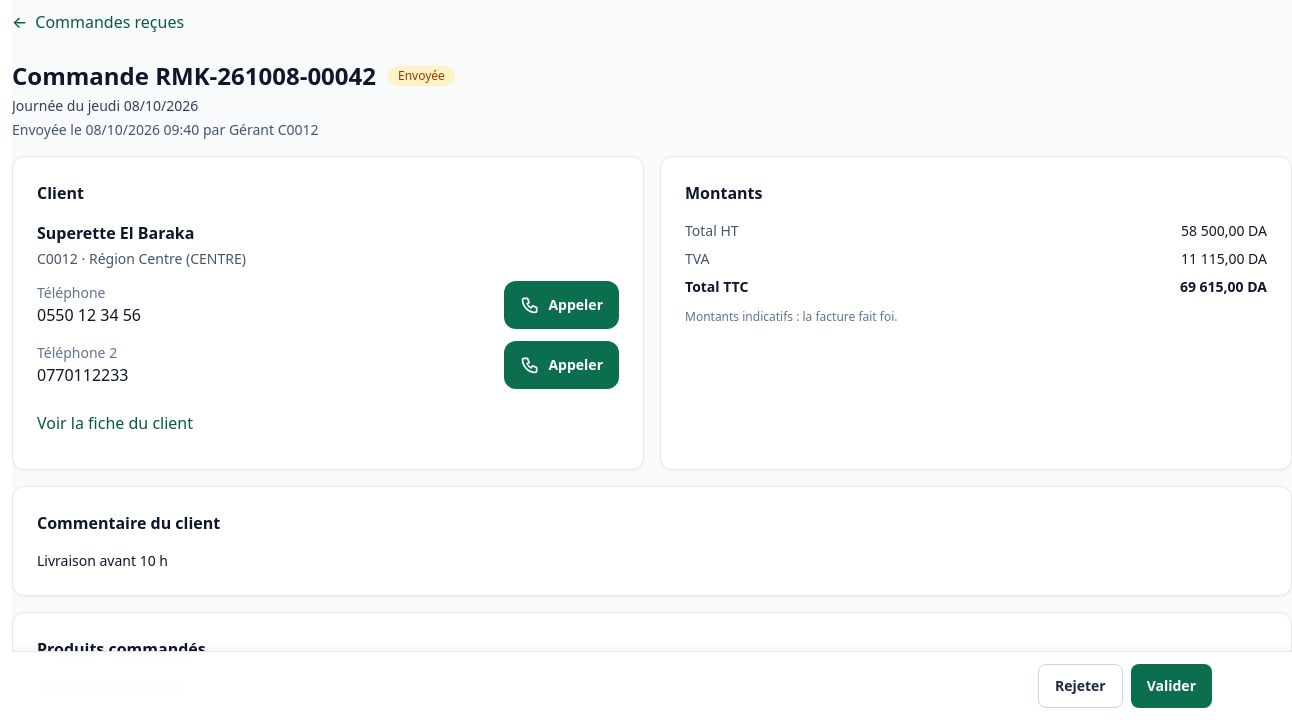
regional order — after a decision › only offers the way back when the order was opened without a list (notification link)
Click the button "Valider": (1171, 686) [1131, 664, 1212, 708]
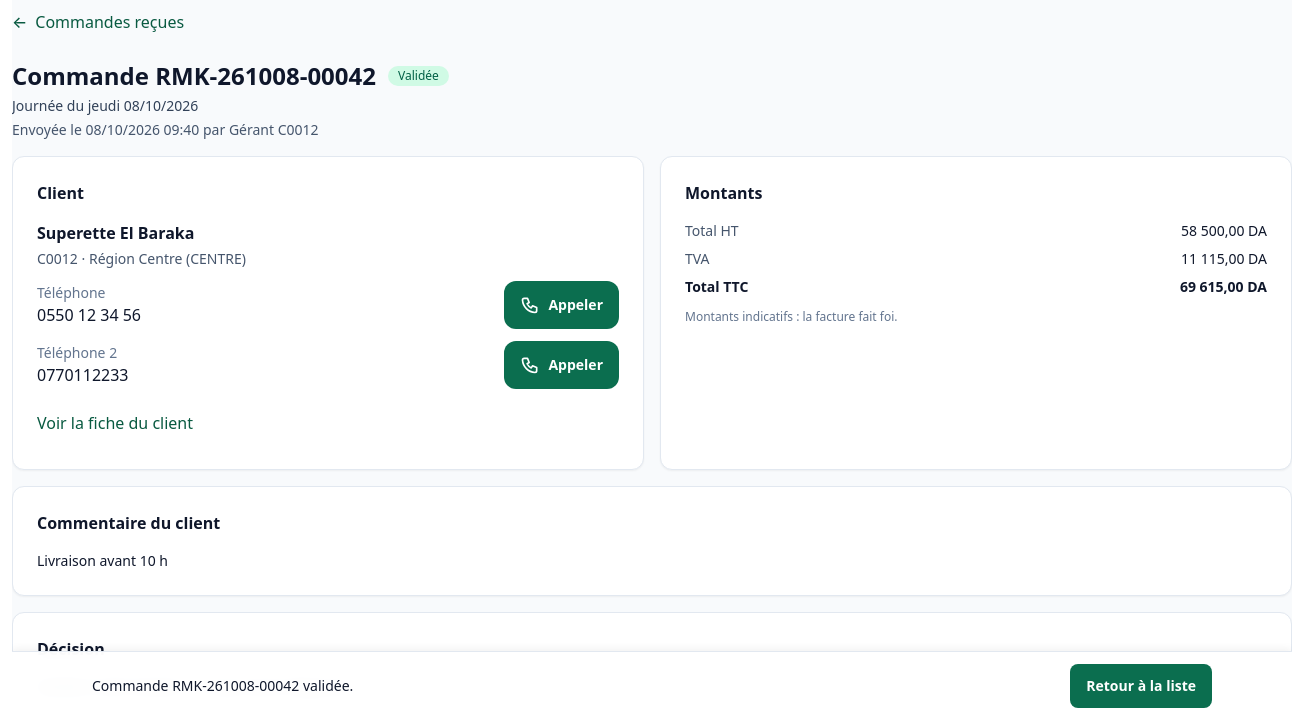
Expected: the text "Commande RMK-261008-00042 validée." is shown, [92, 676, 353, 696]
